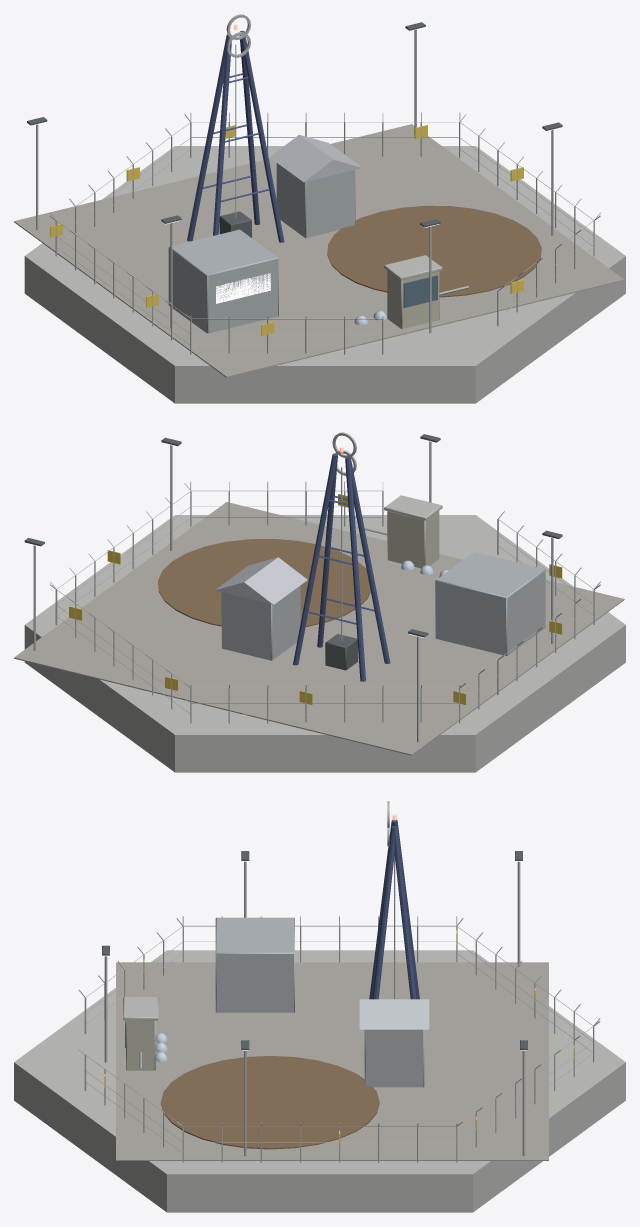
Rendered from extractor_diamond.glb.
3 views of the same model, one above another, from view 1: azimuth 30°, elevation 25°; view 2: azimuth 150°, elevation 25°; view 3: azimuth 270°, elevation 25° (orthographic).
Parts seen in each view (by area): view 1: gravel, wall_concrete, cladding, earth, metal, paint, hazard, steel_dark, glow_cyan, glass; view 2: gravel, wall_concrete, cladding, earth, metal, paint, steel_dark, hazard; view 3: gravel, wall_concrete, earth, cladding, metal, paint.
Boxes of the visible parts, box(x1,y1,x2,y2) form: gravel: box(14, 124, 624, 377); wall_concrete: box(24, 146, 625, 403); cladding: box(168, 134, 439, 333); earth: box(327, 205, 541, 297); metal: box(36, 14, 600, 354); paint: box(187, 30, 386, 325); hazard: box(50, 125, 523, 335); steel_dark: box(27, 22, 562, 237); glow_cyan: box(216, 273, 270, 303); glass: box(403, 275, 437, 307); gravel: box(14, 502, 624, 755); wall_concrete: box(24, 495, 625, 772); cladding: box(214, 511, 545, 660); earth: box(158, 539, 370, 626); metal: box(33, 432, 600, 742); paint: box(293, 453, 448, 681); steel_dark: box(24, 434, 562, 670); hazard: box(69, 494, 562, 704); gravel: box(116, 962, 548, 1160); wall_concrete: box(14, 950, 625, 1212); earth: box(160, 1055, 379, 1149); cladding: box(126, 917, 429, 1087); metal: box(78, 801, 600, 1162); paint: box(155, 819, 419, 1061).
Size of the model in its own units: 21.3 by 12.04 by 24.6.
